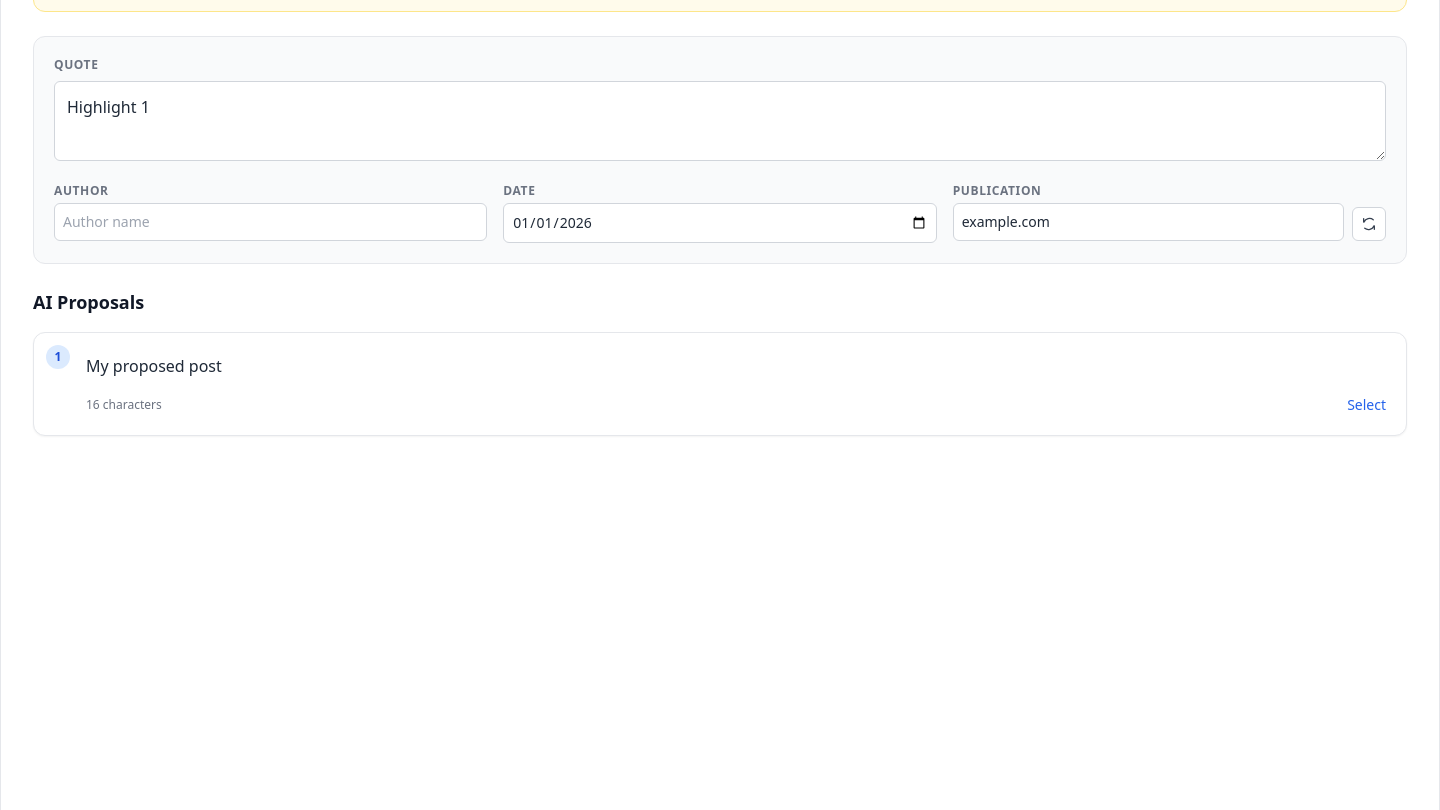
Test case: PostPage — AI proposals panel › clicking a proposal fills post textarea
(page scrolled)
Click the button with aria-label "select this proposal".
click(1367, 405)  # box [1347,395,1386,415]
(page scrolled)
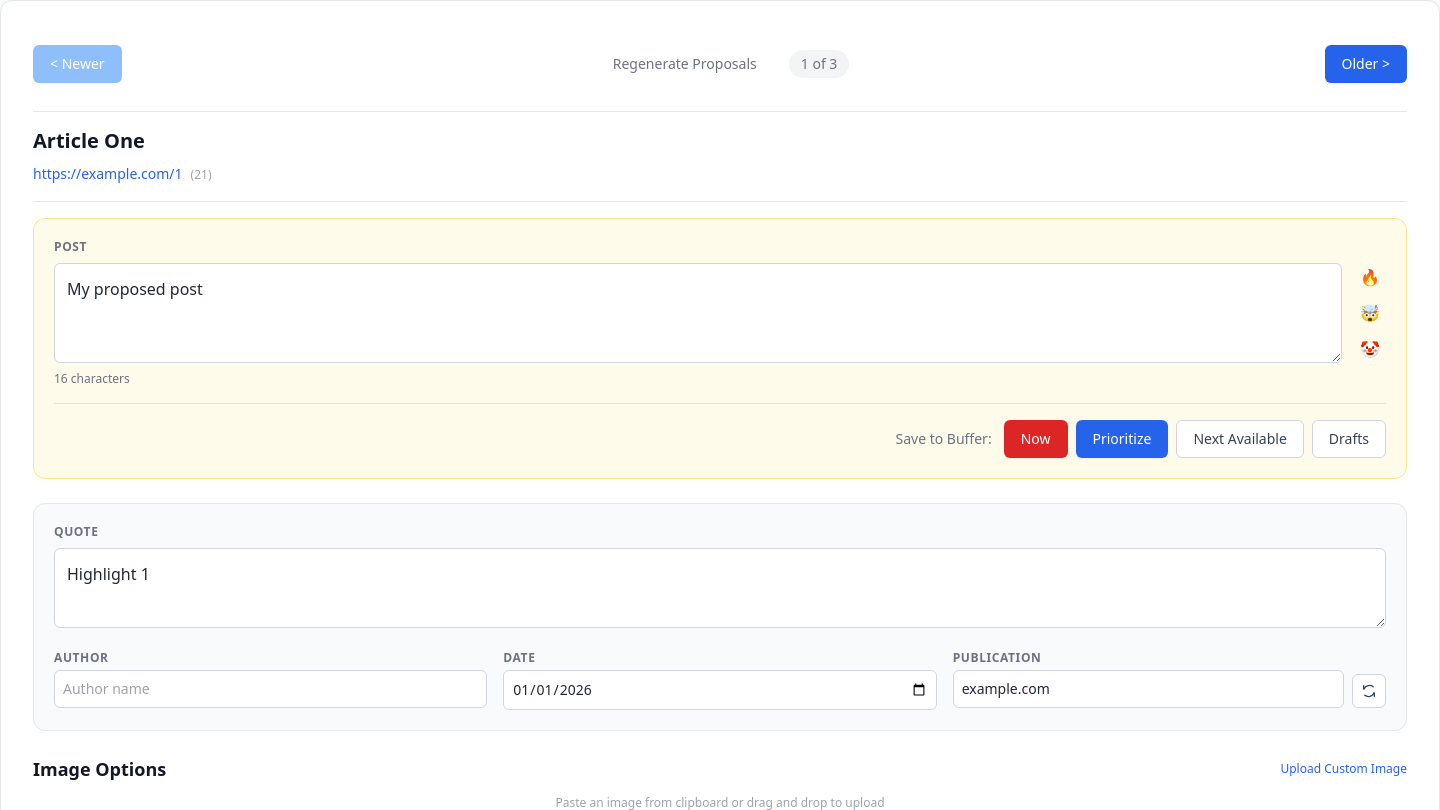
Check: the field labelled "My proposed post" is shown, box [54,263,1342,363]
